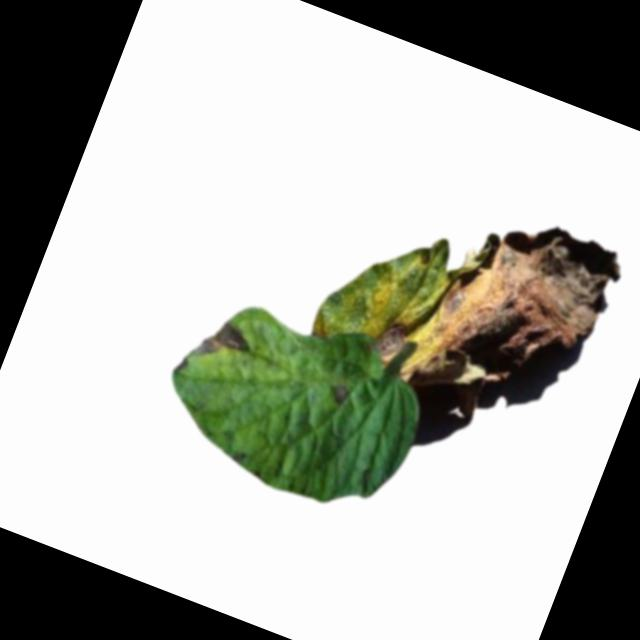Early_blight: (304, 157, 630, 439), (174, 308, 260, 393), (328, 383, 352, 408)
